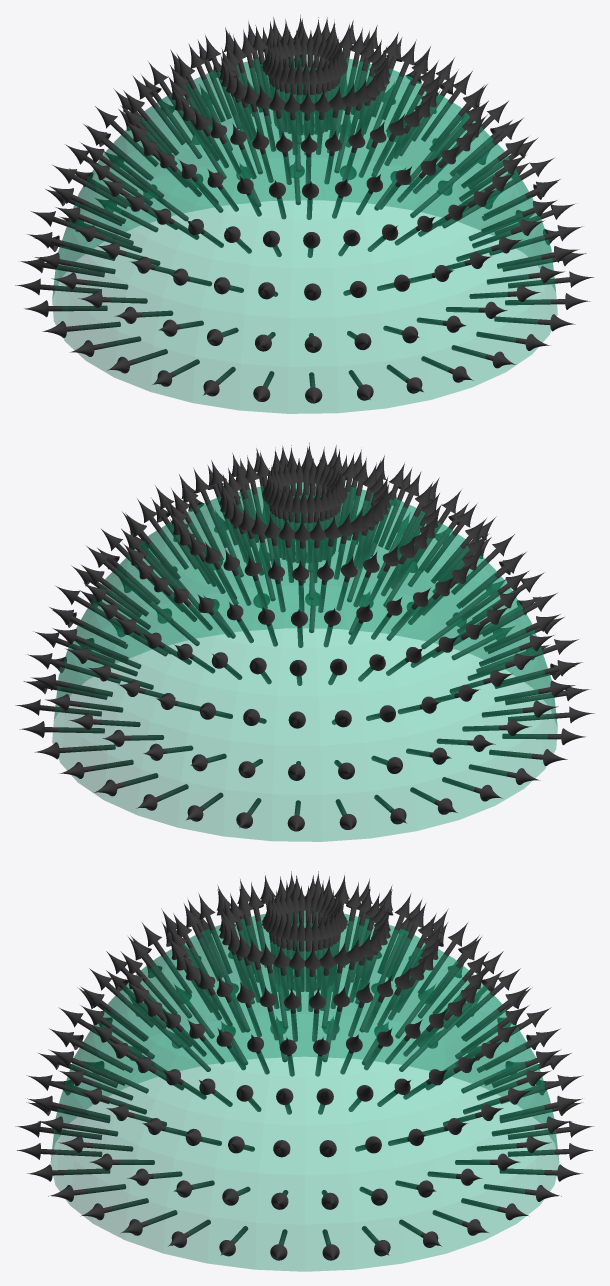
The model's file is 18_Flux through half sphere.glb.
The picture shows the model from 3 angles, top to bottom: view 1: azimuth 30°, elevation 25°; view 2: azimuth 150°, elevation 25°; view 3: azimuth 270°, elevation 25°; orthographic projection.
Parts seen in each view (by area): view 1: Sphere, Arrow.190, Arrow.192, Arrow.404, Arrow.155, Arrow.153, Arrow.164, Arrow.199, Arrow.447; view 2: Sphere, Arrow.074, Arrow.076, Arrow.367, Arrow.100, Arrow.053, Arrow.096, Arrow.098, Arrow.306, Arrow.332; view 3: Sphere, Arrow.002, Arrow.250, Arrow.320, Arrow.450, Arrow.270, Arrow.277, Arrow.485, Arrow.509, Arrow.020, Arrow.228, Arrow.275 (+1 smaller).
Boxes of the visible parts, x1,y1,x2,y2 form: Sphere: (52, 54, 557, 413); Arrow.190: (497, 246, 579, 268); Arrow.192: (505, 293, 590, 309); Arrow.404: (34, 252, 115, 273); Arrow.155: (457, 118, 523, 175); Arrow.153: (429, 85, 484, 151); Arrow.164: (484, 179, 560, 218); Arrow.199: (494, 314, 575, 331); Arrow.447: (83, 124, 150, 179); Sphere: (52, 482, 557, 841); Arrow.074: (30, 674, 112, 696); Arrow.076: (19, 721, 104, 737); Arrow.367: (494, 680, 575, 701); Arrow.100: (86, 546, 152, 603); Arrow.053: (34, 742, 115, 759); Arrow.096: (49, 607, 125, 646); Arrow.098: (125, 513, 180, 579); Arrow.306: (424, 503, 477, 572); Arrow.332: (459, 552, 526, 607); Sphere: (50, 911, 559, 1271); Arrow.002: (499, 1095, 582, 1120); Arrow.250: (27, 1095, 110, 1120); Arrow.320: (198, 893, 232, 974); Arrow.450: (377, 893, 411, 974); Arrow.270: (80, 986, 148, 1040); Arrow.277: (89, 968, 154, 1027); Arrow.485: (455, 968, 520, 1027); Arrow.509: (461, 986, 529, 1040); Arrow.020: (491, 1116, 571, 1136); Arrow.228: (38, 1116, 118, 1136); Arrow.275: (128, 937, 182, 1004).
Size of the model in its own units: 2.29 by 1.15 by 2.29.
